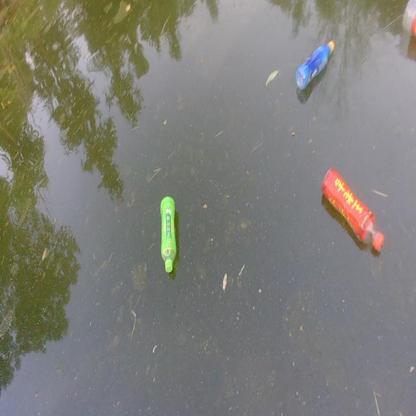plastic bottle: (320, 166, 385, 252), (295, 41, 334, 89), (159, 196, 177, 271)
